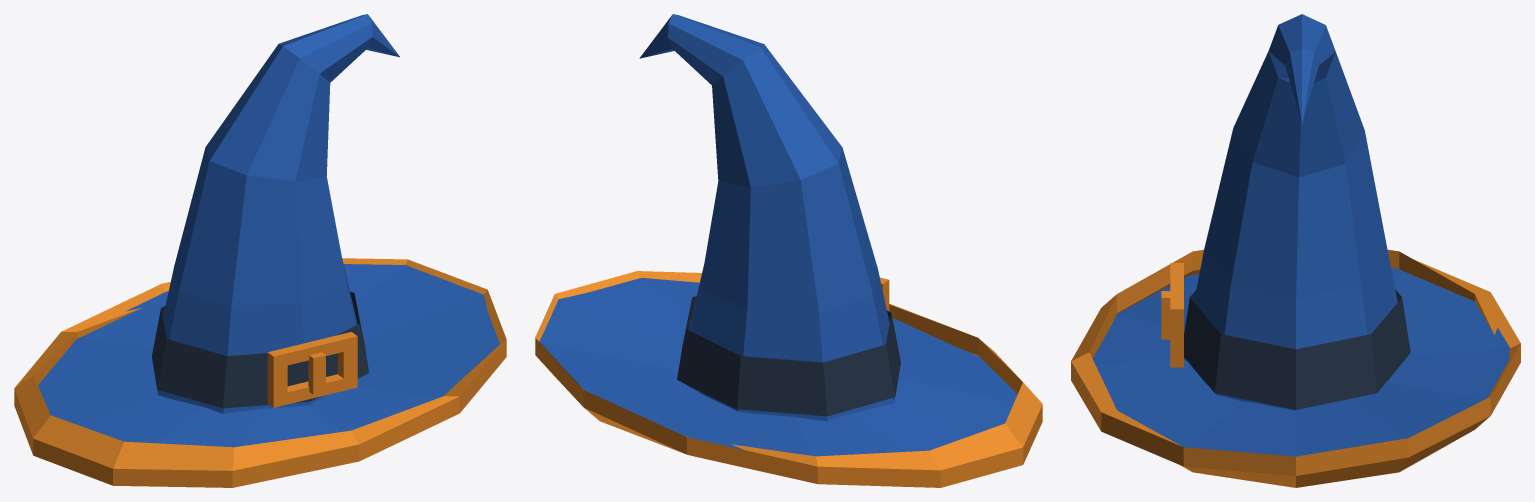
The picture shows the model from 3 angles, left to right: view 1: azimuth 30°, elevation 25°; view 2: azimuth 150°, elevation 25°; view 3: azimuth 270°, elevation 25°; orthographic projection. The views are drawn at different scales.
Parts seen in each view (by area): view 1: Copa dobrada, Aba em planos, Borda da aba, Faixa, Fecho, Trava do fecho; view 2: Copa dobrada, Aba em planos, Borda da aba, Faixa; view 3: Copa dobrada, Aba em planos, Borda da aba, Faixa, Fecho, Trava do fecho.
Part boxes in pixels (x1,y1,x2,y2): Copa dobrada: (157,14,399,413); Aba em planos: (38,264,499,447); Borda da aba: (14,258,506,487); Faixa: (151,291,368,408); Fecho: (267,332,357,407); Trava do fecho: (308,352,325,394); Copa dobrada: (639,14,895,421); Aba em planos: (539,278,1017,456); Borda da aba: (535,271,1042,487); Faixa: (677,296,900,416); Copa dobrada: (1184,14,1407,410); Aba em planos: (1092,268,1510,456); Borda da aba: (1071,249,1520,487); Faixa: (1184,289,1410,409); Fecho: (1170,263,1183,367); Trava do fecho: (1161,291,1170,339).
Bounding box in the file's own units: 1.95 × 1.47 × 1.47.
